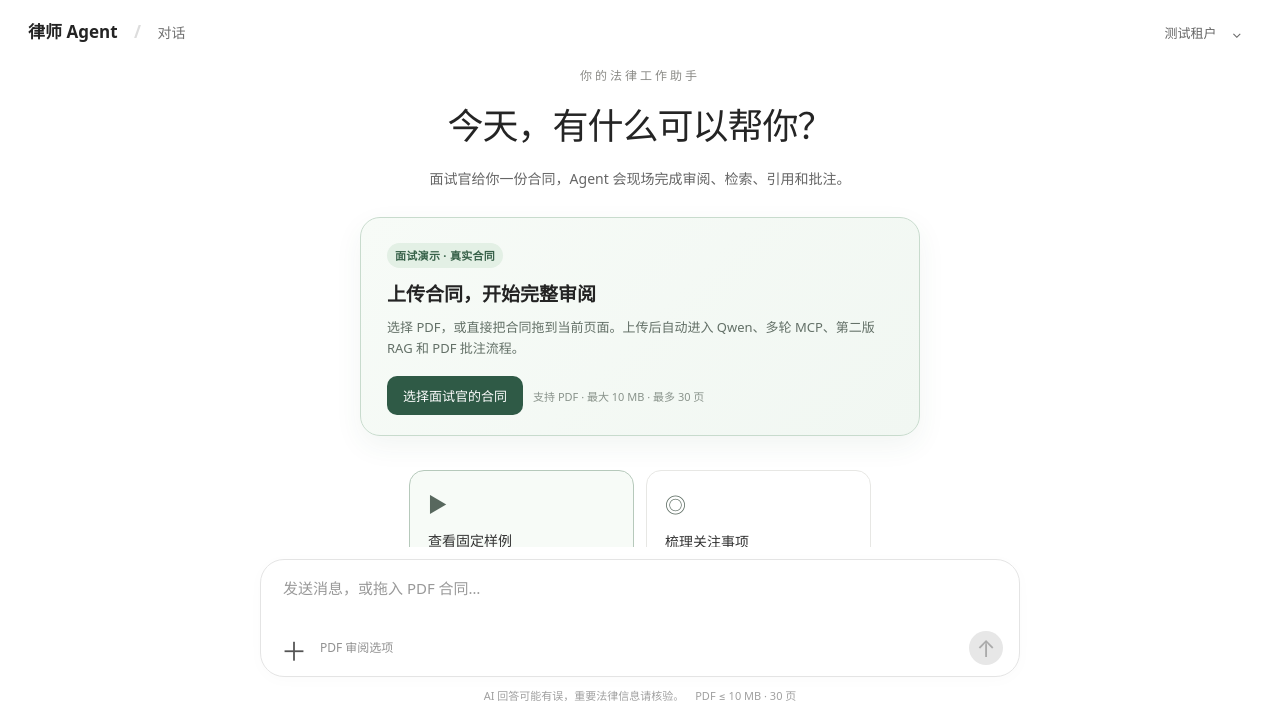
Test: 对话工作区 › 纯文本走聊天，流未正常结束时显示未完成
In the text box with placeholder "发送消息，或拖入 PDF 合同…": (640, 604) [277, 576, 1003, 631], type "你好"
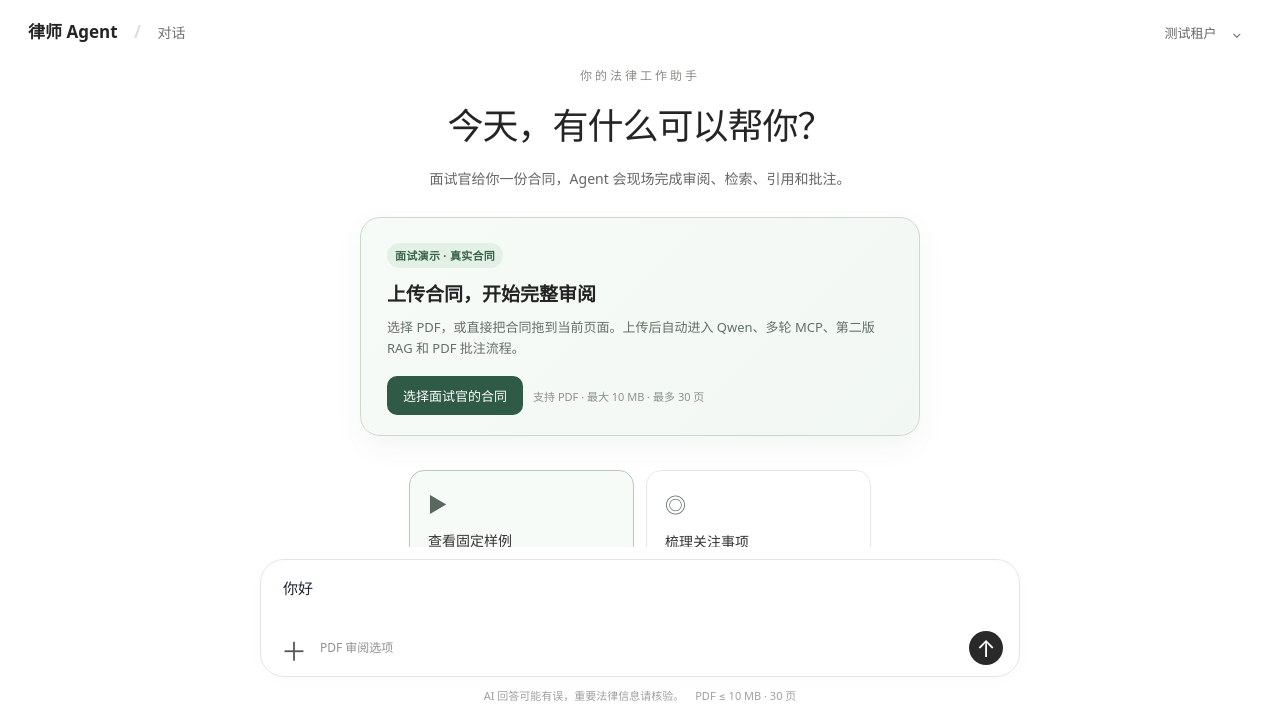
Submit the form, box [260, 559, 1020, 677]
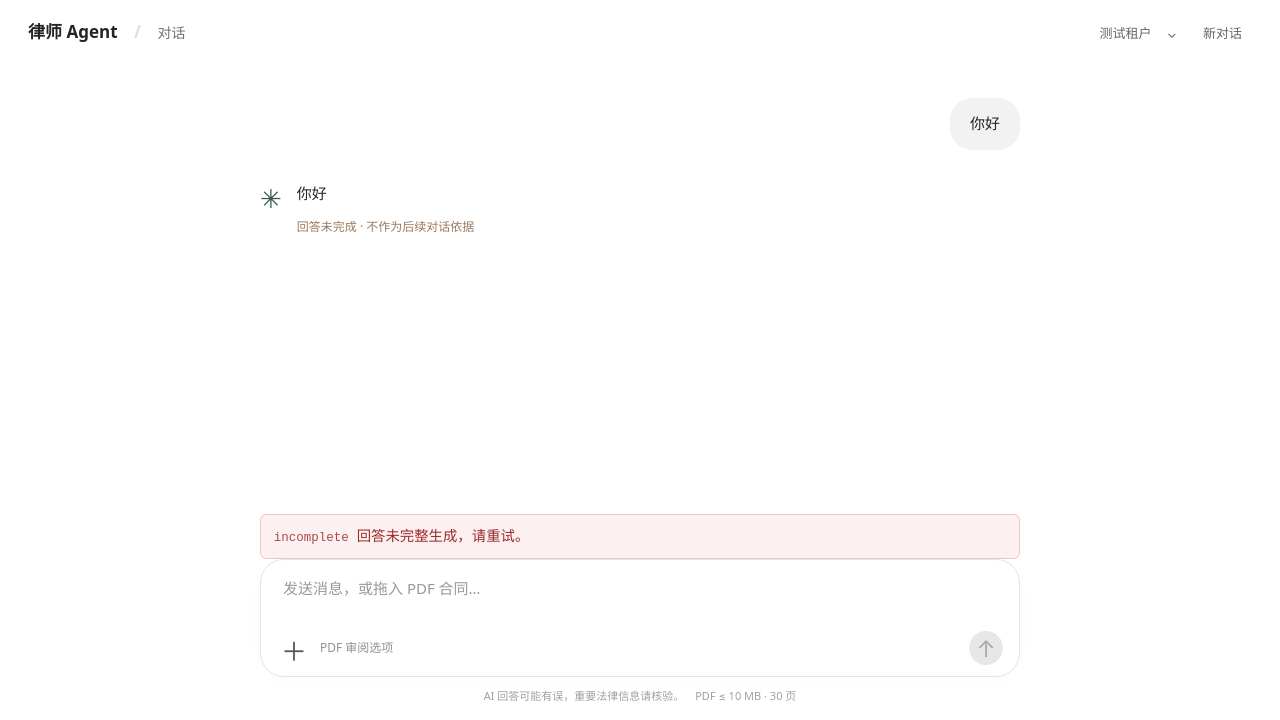
Now the text "未完整" is shown, box [357, 525, 529, 547]
